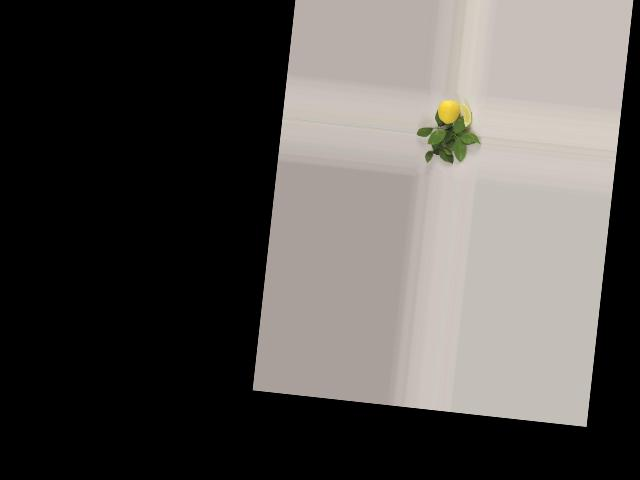lemon: (435, 99, 459, 127)
